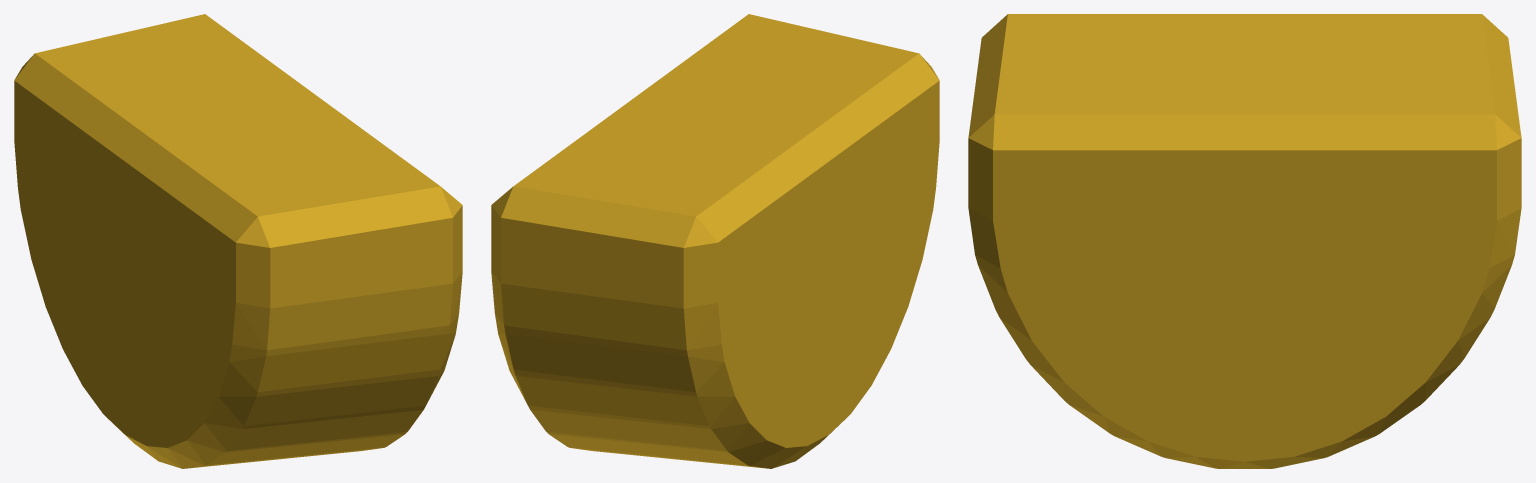
Rendered from VIS_HandInterfaceLittle.dae.
The picture shows the model from 3 angles, left to right: view 1: azimuth 30°, elevation 25°; view 2: azimuth 150°, elevation 25°; view 3: azimuth 270°, elevation 25°; orthographic projection. The views are drawn at different scales.
Visible parts, largest first — view 1: VIS_HandInterfaceLittle; view 2: VIS_HandInterfaceLittle; view 3: VIS_HandInterfaceLittle.
Boxes of the visible parts, <box> form: VIS_HandInterfaceLittle: <box>14,14,462,468</box>; VIS_HandInterfaceLittle: <box>491,14,939,468</box>; VIS_HandInterfaceLittle: <box>968,14,1521,468</box>.
Bounding box in the file's own units: 0.0113 × 0.0233 × 0.0169.
